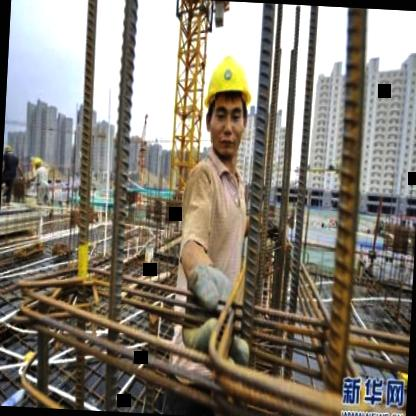helmet: (196, 40, 260, 166)
